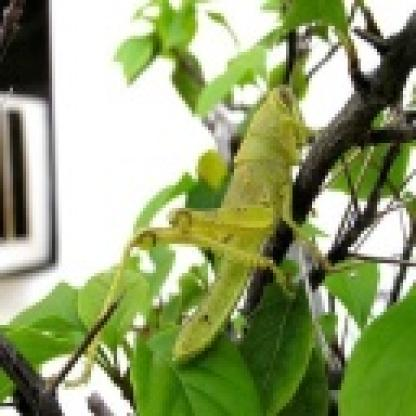grasshopper: (118, 83, 340, 365)
